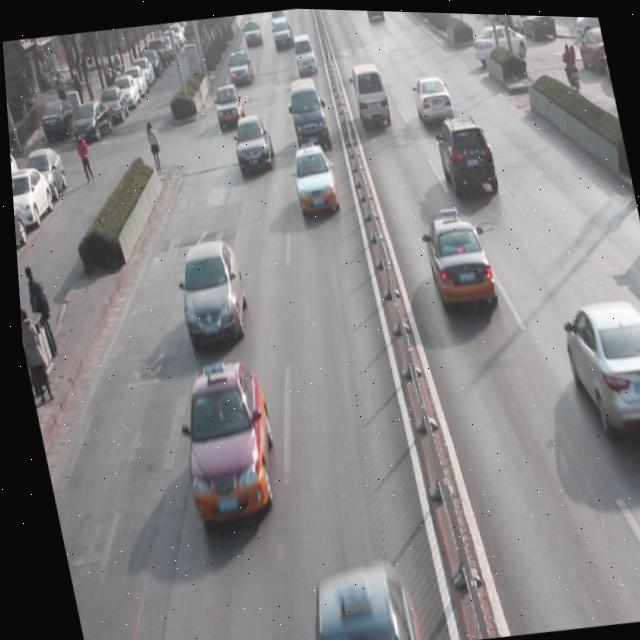car: (160, 355, 285, 527), (550, 284, 640, 452), (165, 236, 251, 346), (417, 203, 497, 320), (429, 106, 500, 200), (284, 140, 342, 218), (227, 109, 278, 176), (410, 69, 456, 126), (208, 79, 247, 128), (223, 45, 257, 88), (268, 14, 296, 51), (240, 16, 265, 48)
truck: (278, 69, 332, 149), (347, 60, 394, 132), (289, 31, 320, 77)
